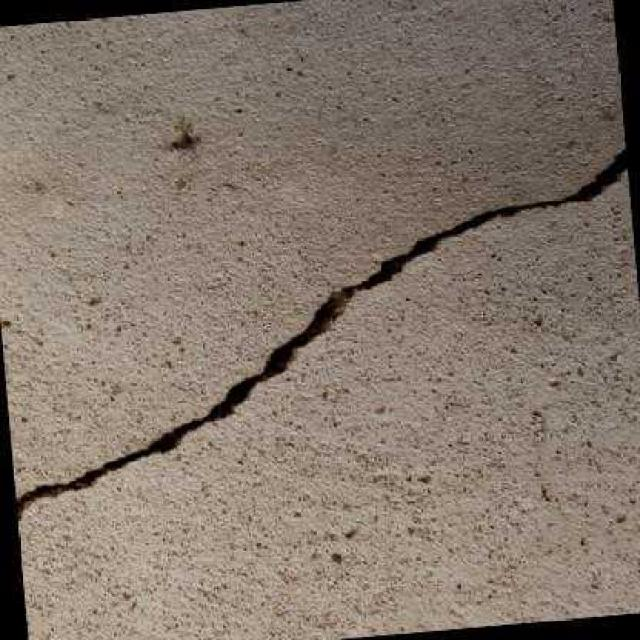D00: (14, 149, 628, 517)
